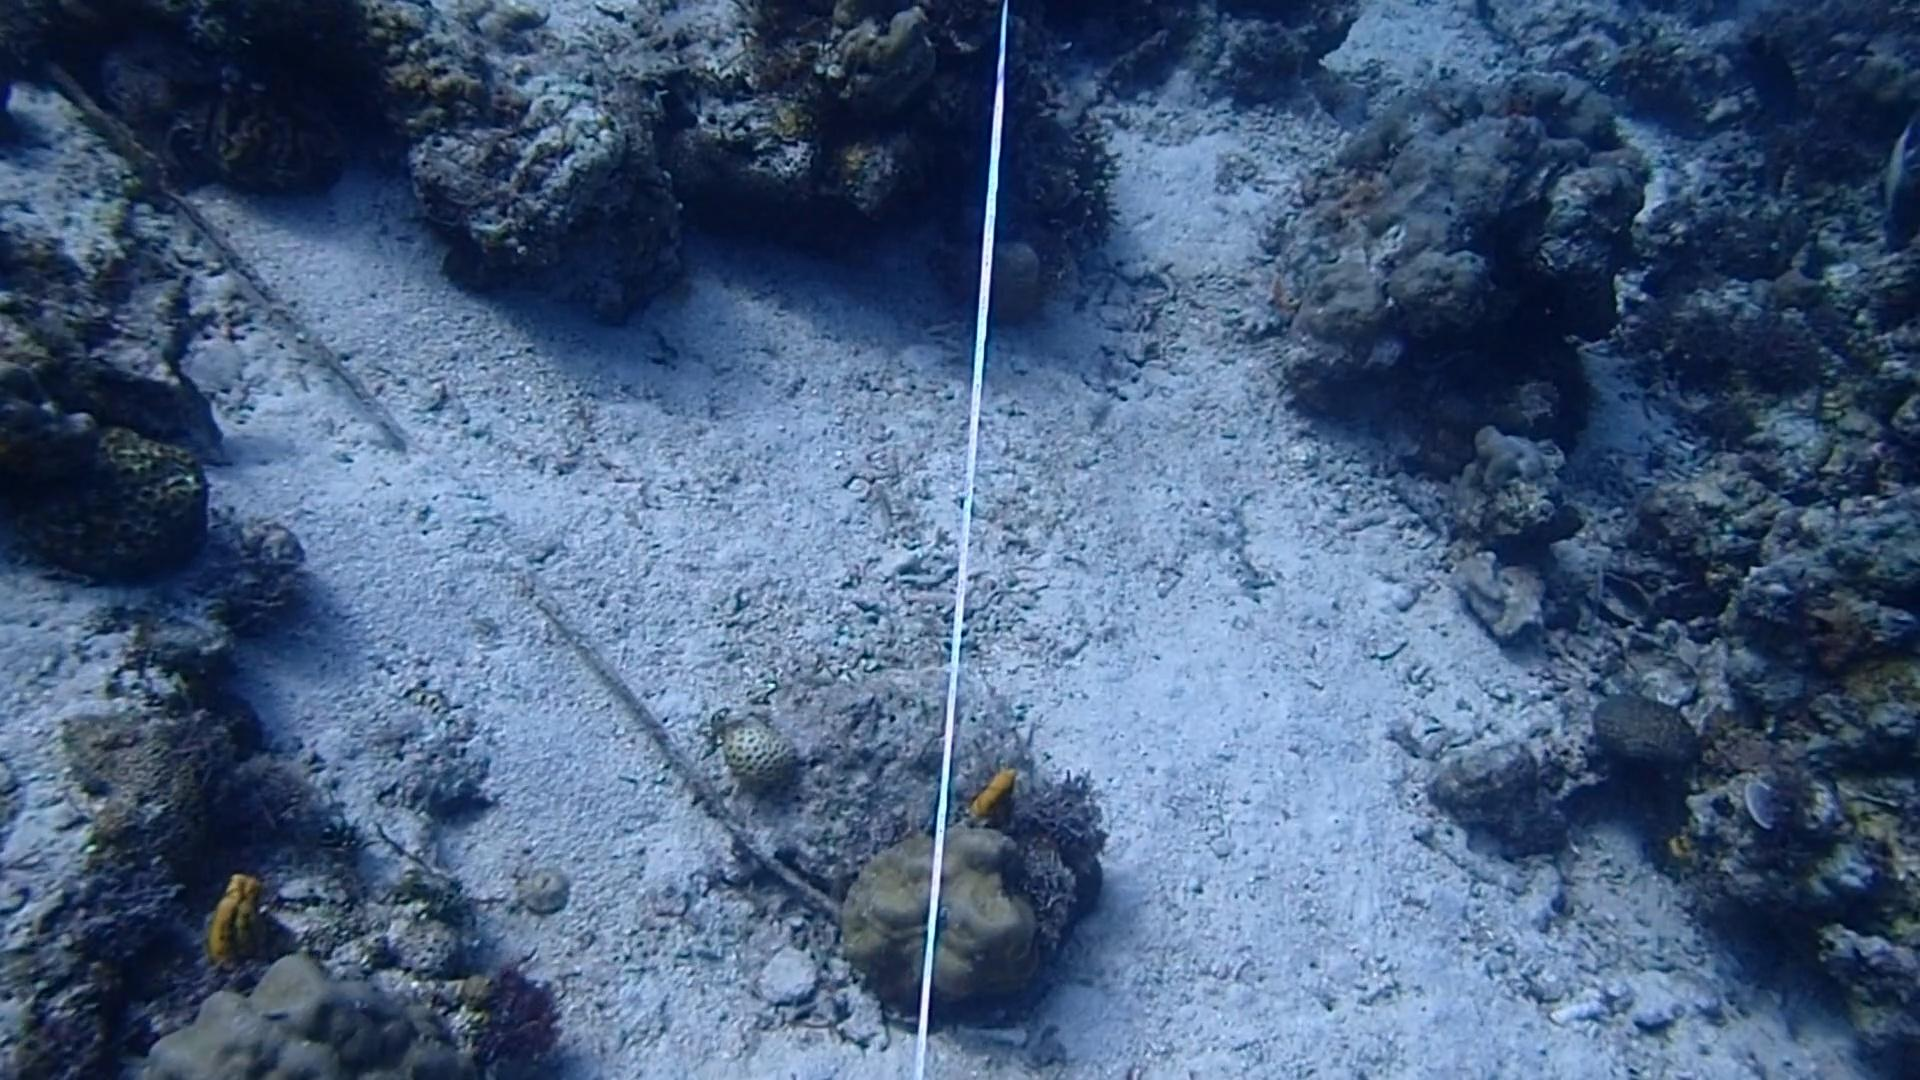Dark Fish: (1735, 26, 1812, 129)
